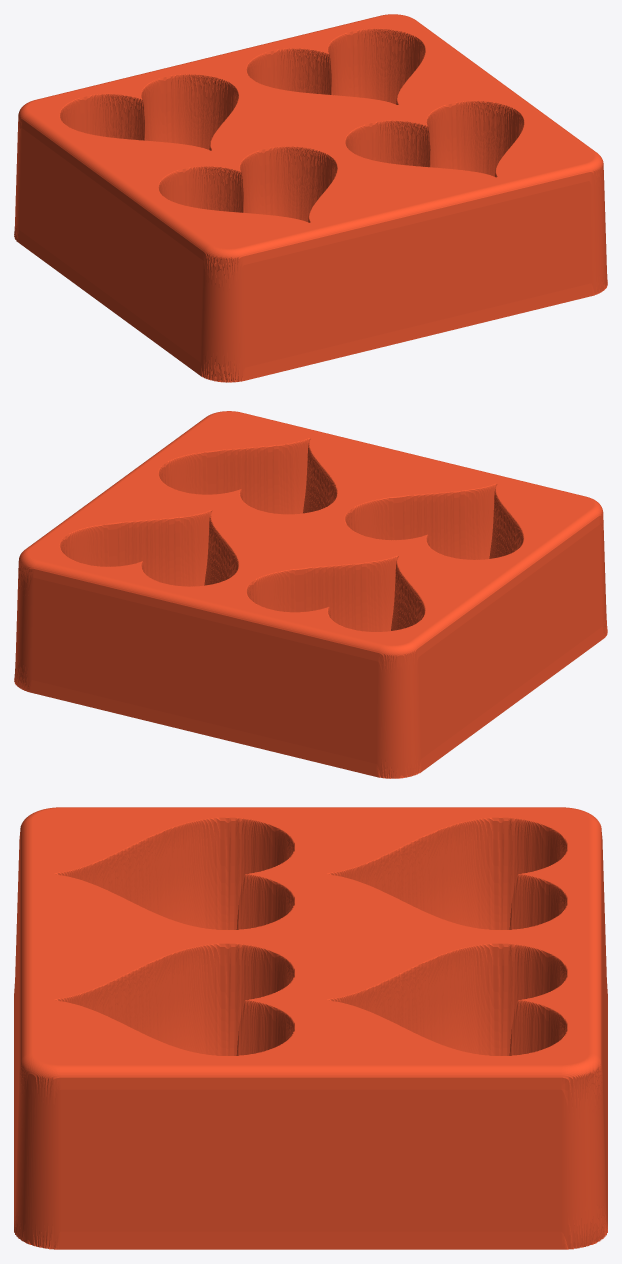
File: mold.glb
The picture shows the model from 3 angles, top to bottom: view 1: azimuth 30°, elevation 25°; view 2: azimuth 150°, elevation 25°; view 3: azimuth 270°, elevation 25°; orthographic projection. The views are drawn at different scales.
Parts seen in each view (by area): view 1: geometry_0; view 2: geometry_0; view 3: geometry_0.
Boxes of the visible parts, x1,y1,x2,y2 form: geometry_0: [14, 14, 607, 382]; geometry_0: [14, 411, 607, 778]; geometry_0: [14, 807, 607, 1249].
Bounding box in the file's own units: 0.1248 × 0.0377 × 0.115.
